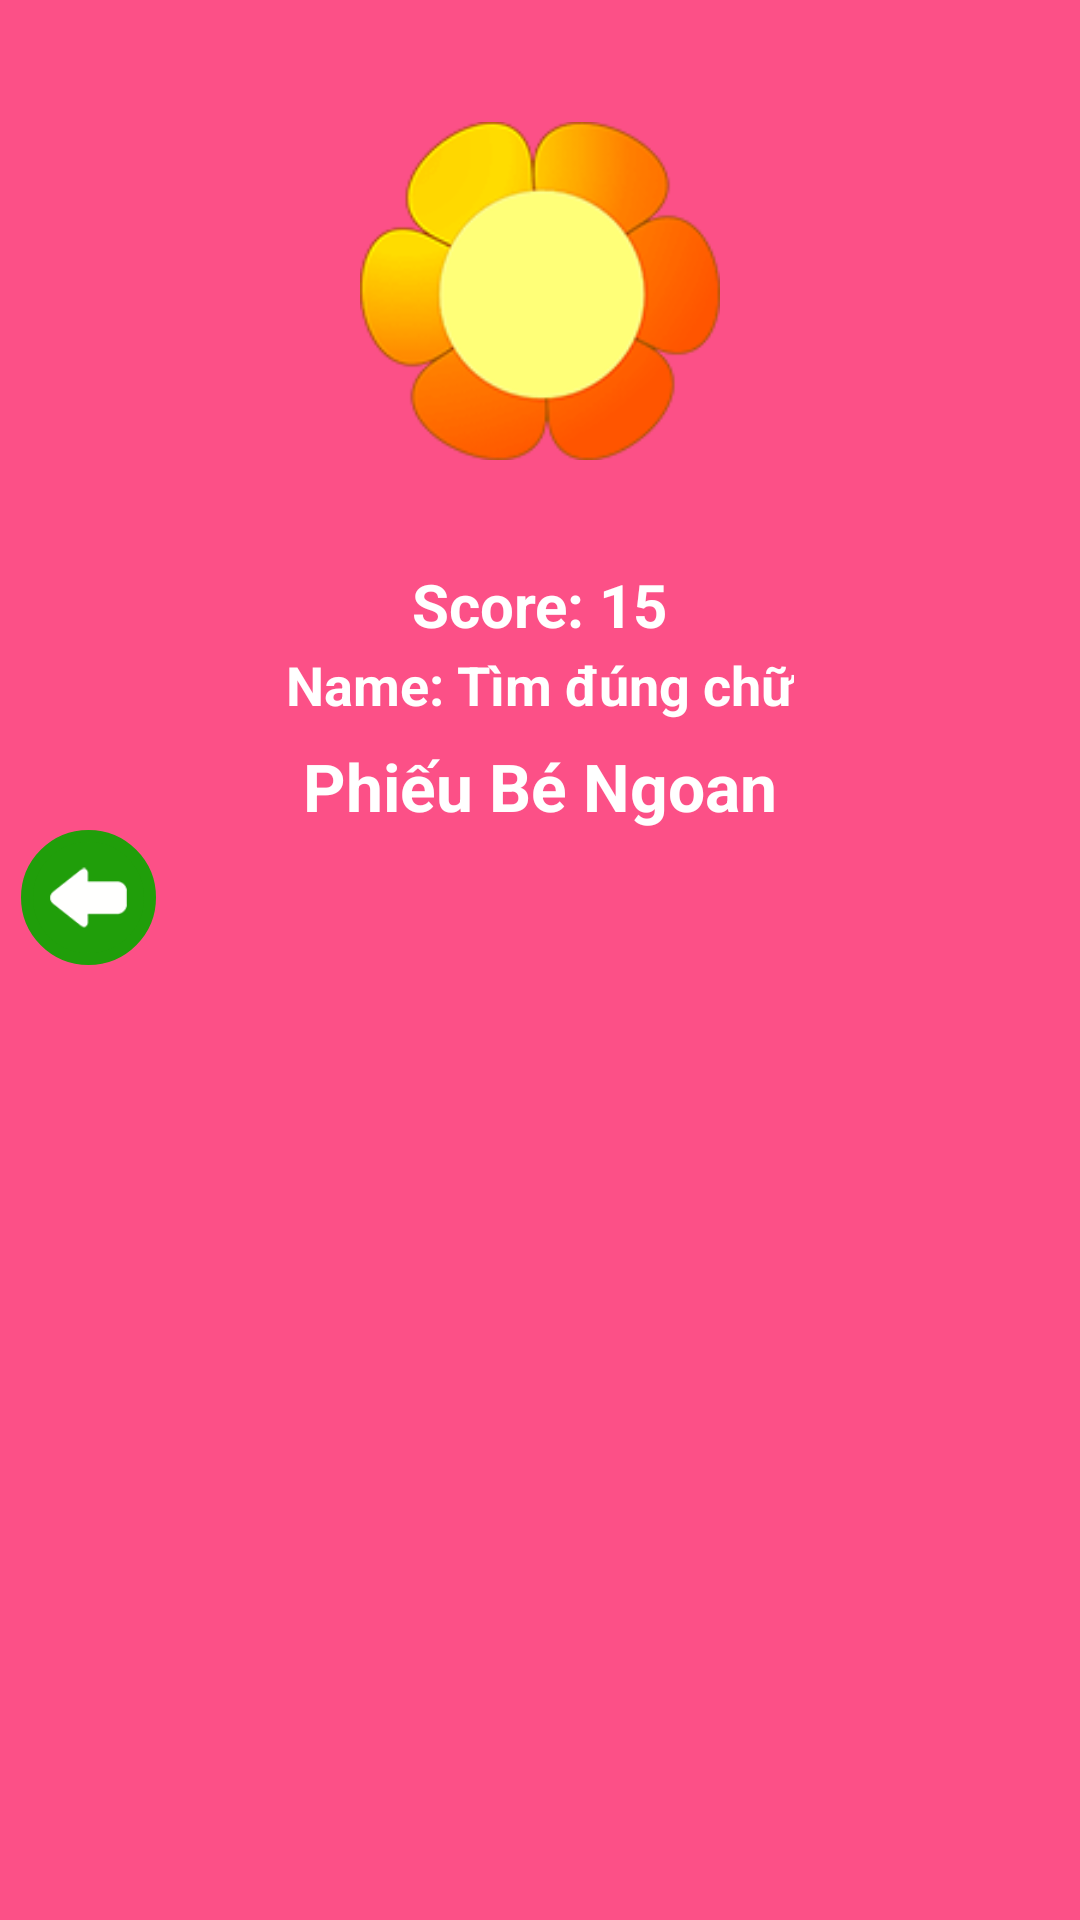

Point at icon controls on the screen. Image size 1080×1920, points as (x=x, y=y).
back: (x=88, y=897)
hoa do: (x=540, y=291)
